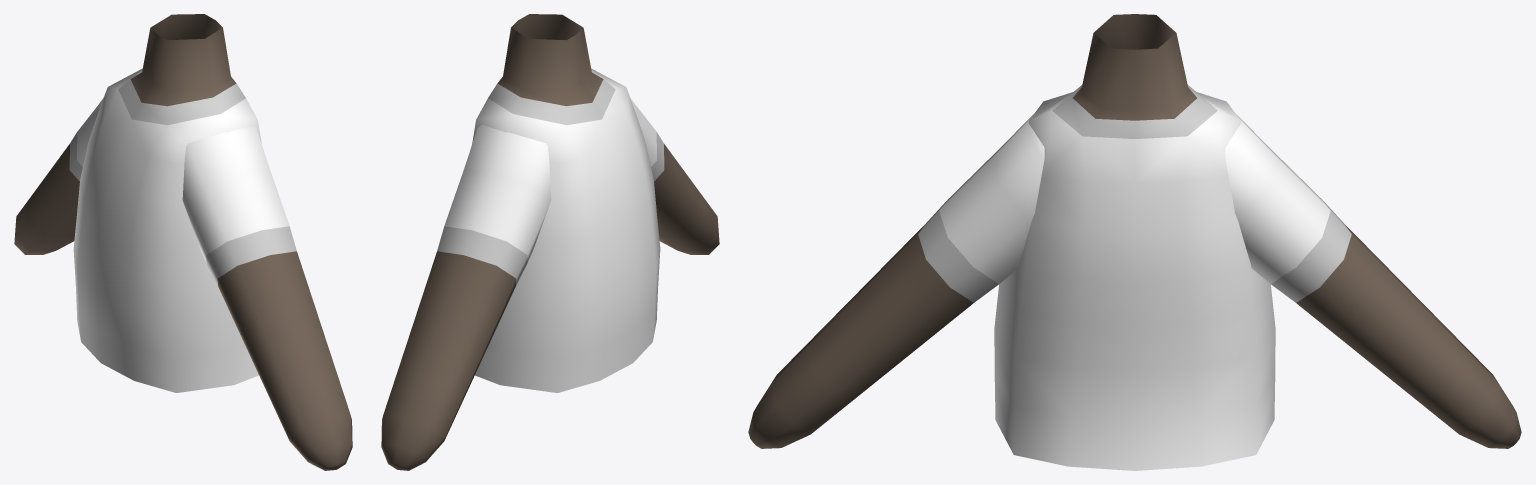
Rendered from tshirt.fbx.
3 views of the same model, side by side, from view 1: azimuth 30°, elevation 25°; view 2: azimuth 150°, elevation 25°; view 3: azimuth 270°, elevation 25° (orthographic). The views are drawn at different scales.
Visible parts, largest first — view 1: Cube.003; view 2: Cube.003; view 3: Cube.003.
Boxes of the visible parts, x1,y1,x2,y2 form: Cube.003: (14, 14, 352, 470); Cube.003: (381, 14, 719, 470); Cube.003: (748, 14, 1521, 470).
Size of the model in its own units: 108 by 209 by 351.
